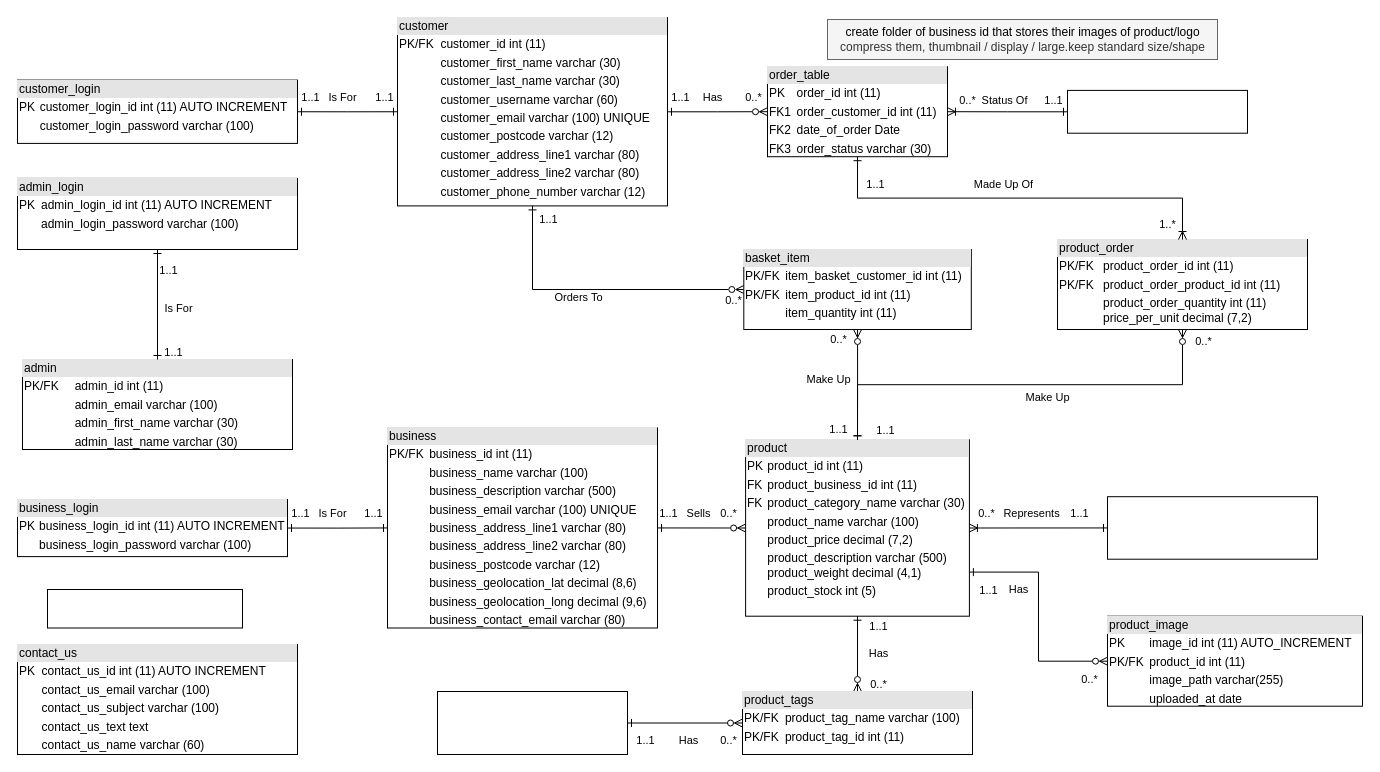
The diagram is 1380 pixels wide and 772 high, and some of its shapes have lost their labels. Each missing label, with the box of its shape:
category PK category_name varchar (30) category_description varchar (500): (1106, 496, 1318, 559)
order_status_table PK status_name varchar (30): (1066, 89, 1248, 133)
subscribers PK subscriber_email varchar(100): (46, 588, 242, 628)
tags PK tag_name varchar (100) tag_description varchar (1000): (436, 690, 628, 754)
